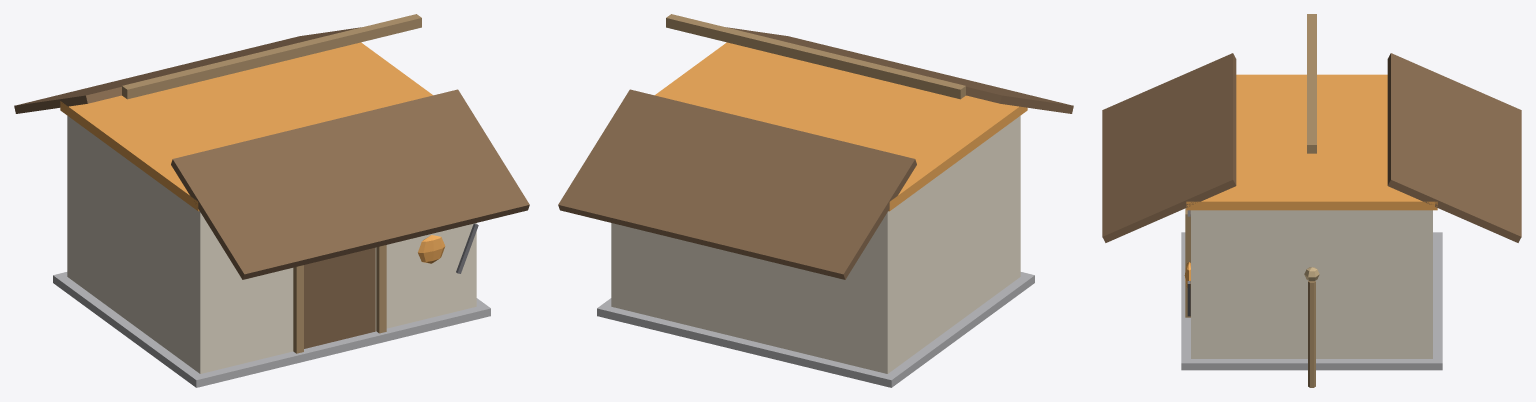
File: barracks_orange.glb
The picture shows the model from 3 angles, left to right: view 1: azimuth 30°, elevation 25°; view 2: azimuth 150°, elevation 25°; view 3: azimuth 270°, elevation 25°; orthographic projection. The views are drawn at different scales.
Visible parts, largest first — view 1: Barracks_orange; view 2: Barracks_orange; view 3: Barracks_orange.
Boxes of the visible parts, box(x1,y1,x2,y2) form: Barracks_orange: box(14, 14, 529, 387); Barracks_orange: box(558, 14, 1073, 387); Barracks_orange: box(1102, 14, 1521, 387).
Size of the model in its own units: 3.67 by 2.57 by 4.33.
